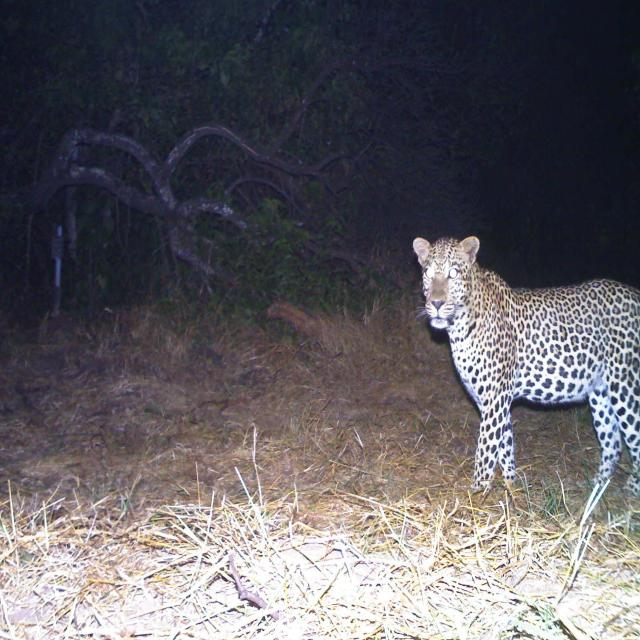Leopard: (413, 230, 635, 508)
